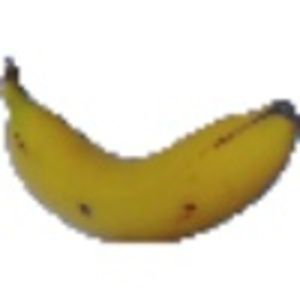banana: (2, 51, 297, 241)
